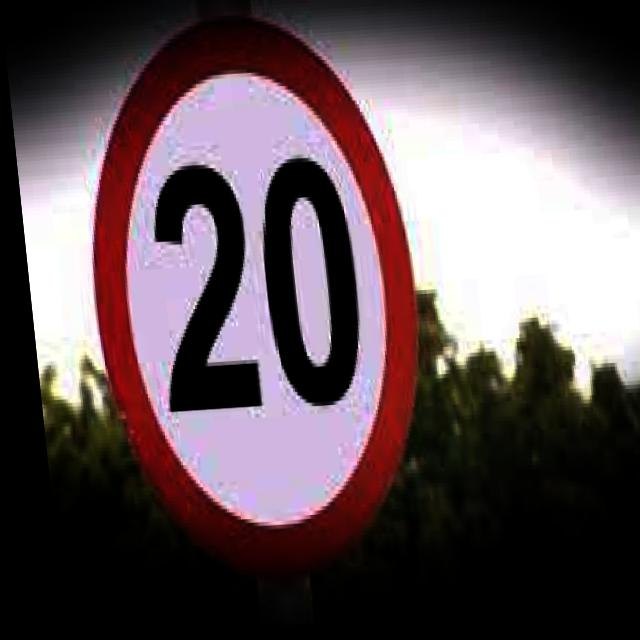SPEED_LIMIT_20: (69, 3, 430, 595)
